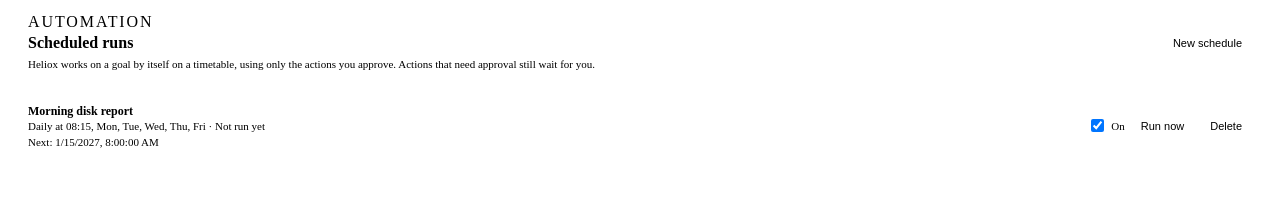
Test case: ScheduledRunsPanel › leaves the run state alone when Run now fails and shows why
This screenshot has width=1280, height=197.
Click the button "Run now". click: (1162, 126)
box: [1131,114,1194,138]
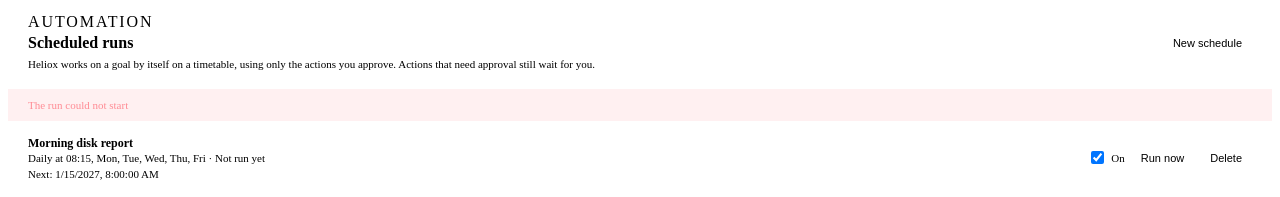
Expected: the text "Daily at 08:15, Mon, Tue, Wed, Thu, Fri · Not run yet" is shown, [28,151,265,167]
Expected: the message reads "The run could not start", [28,99,128,111]
